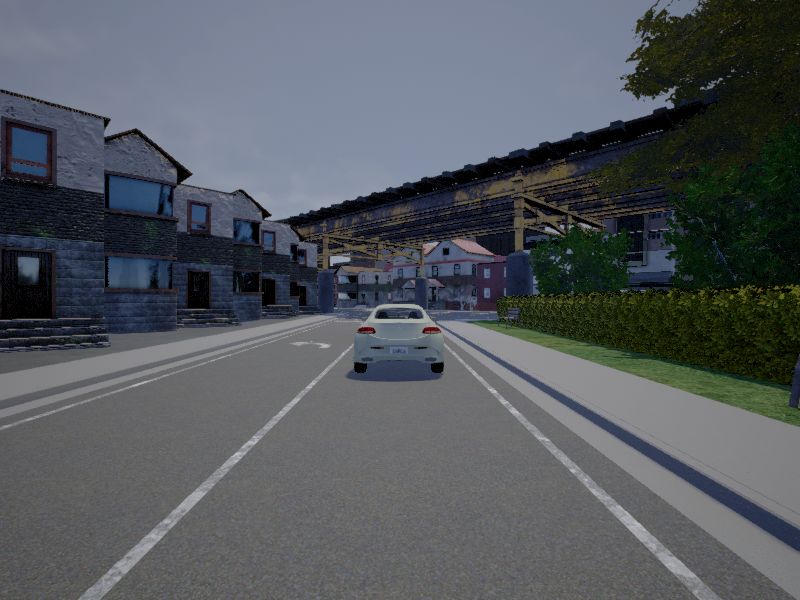Benign: (354, 304, 443, 372)
